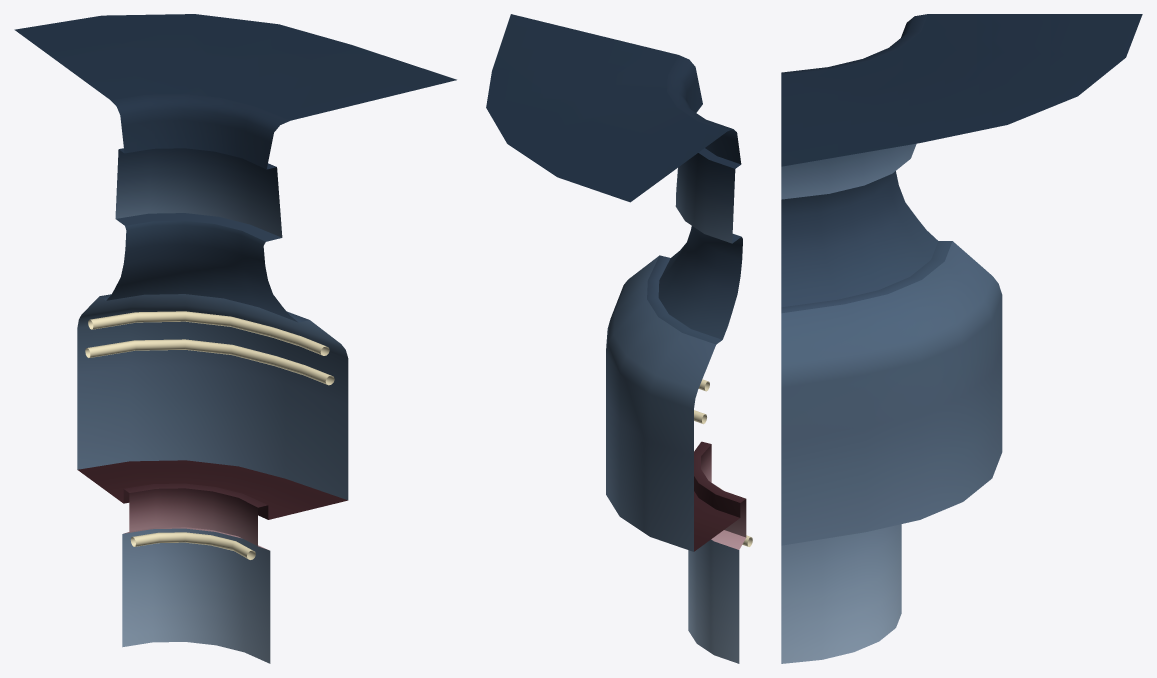
Rendered from ENV_WalkwayWall_Acute.FBX.
3 renders of one model, left to right at view 1: azimuth 30°, elevation 25°; view 2: azimuth 150°, elevation 25°; view 3: azimuth 270°, elevation 25°, orthographic. The views are drawn at different scales.
Visible parts, largest first — view 1: ENV_WalkwayWall_Acute; view 2: ENV_WalkwayWall_Acute; view 3: ENV_WalkwayWall_Acute.
Part boxes in pixels (bbox=[...]): ENV_WalkwayWall_Acute: bbox=[14, 14, 456, 663]; ENV_WalkwayWall_Acute: bbox=[486, 14, 752, 663]; ENV_WalkwayWall_Acute: bbox=[781, 14, 1142, 663].
Bounding box in the file's own units: 750 × 1372 × 750.
2 materials, 2 textured.
